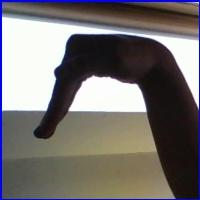A: (27, 29, 184, 169)
